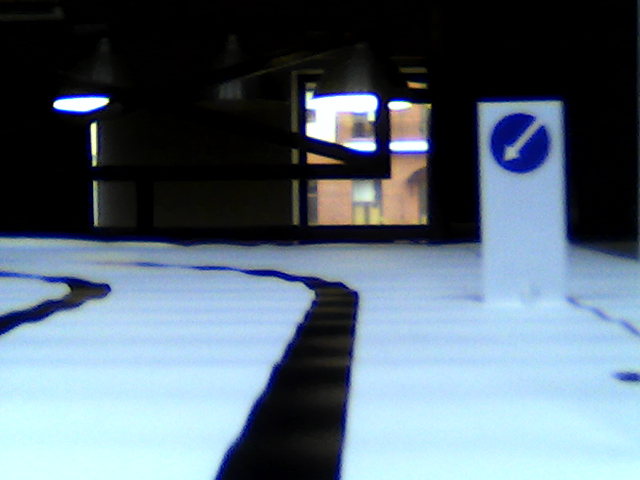prep: (493, 113, 550, 172)
